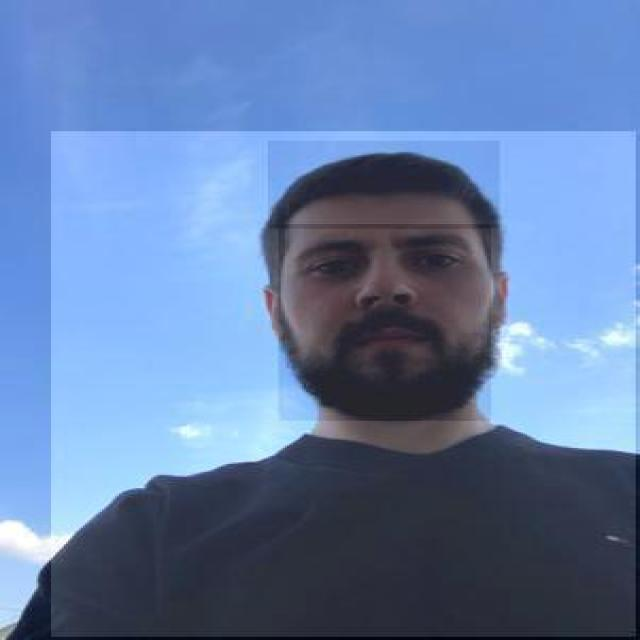face_nomask: (279, 224, 491, 421)
head_nohelmet: (268, 141, 500, 229)
person: (51, 132, 638, 638)
